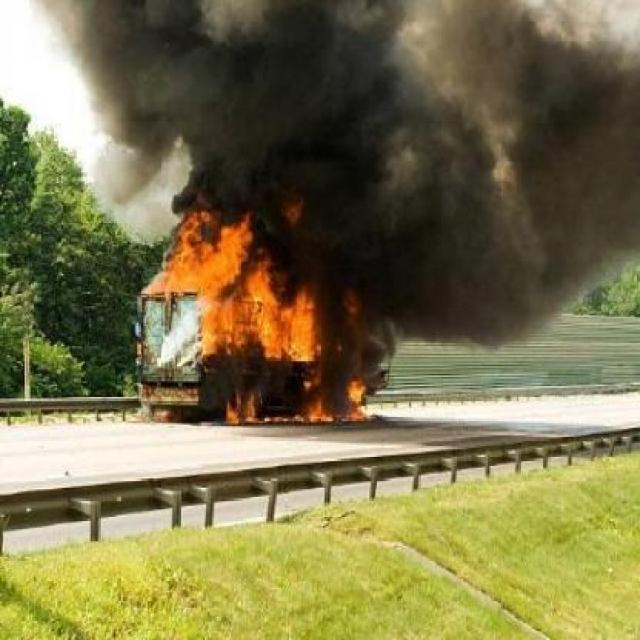Fire: (112, 186, 423, 429)
Smoke: (52, 3, 640, 246), (248, 97, 636, 357)
